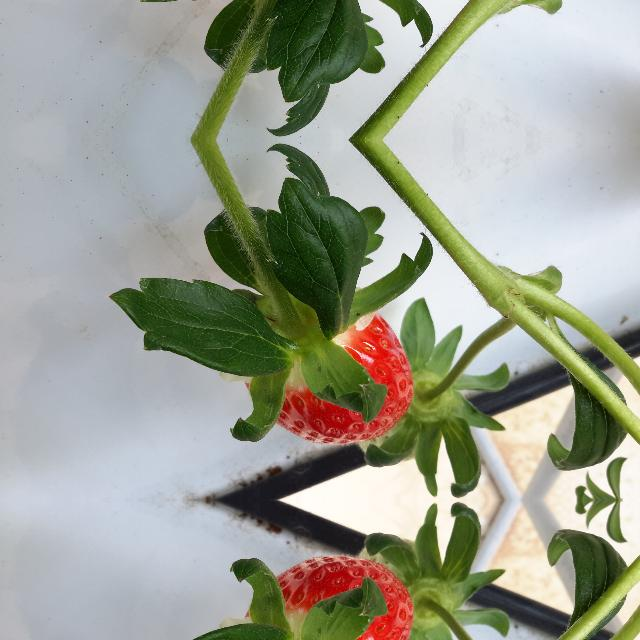Health_100: (246, 312, 414, 444), (245, 555, 414, 640)
